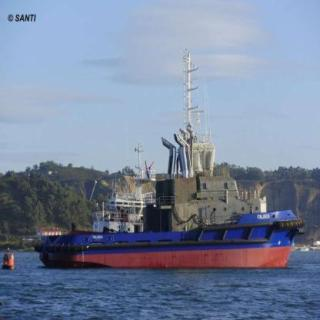Tug Boat: (35, 115, 301, 267)
